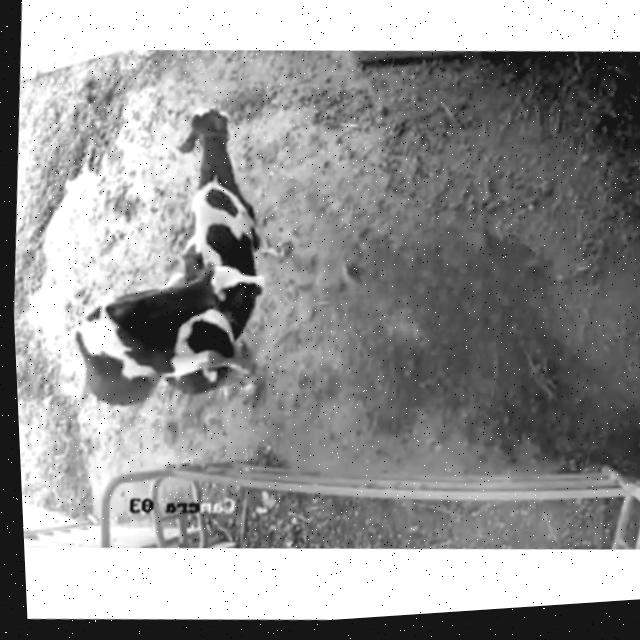ride: (61, 231, 271, 432)
